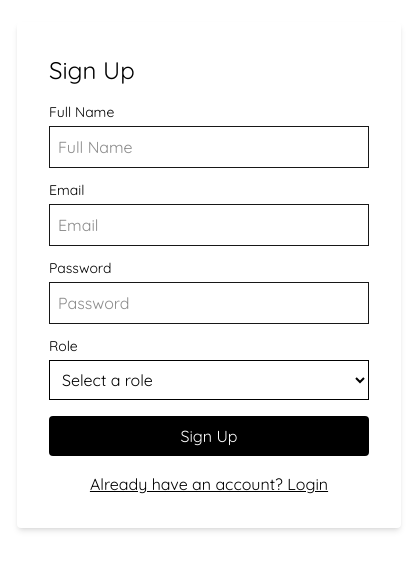
Test case: SignupPage Component › shows an error if any field is empty
Click the button "Sign Up" at (209, 436), box [49,416,369,456]
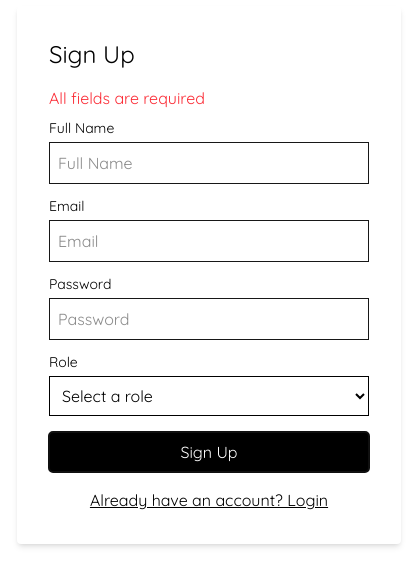
expect the text "All fields are required" is shown: met, box [49,88,205,108]
